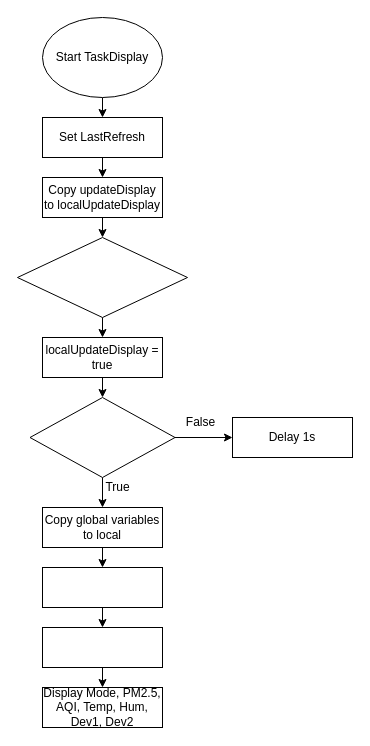
Image size: 370x746. Some labels were removed from this diagram. The centre of each missing label's shape, as x and y in pixels:
!isAPMode && localUpdateDisplay: the point at 102,437
Clear display & Set text size, color, cursor: the point at 102,647
millis() - lastRefresh > 60000: the point at 102,277
updateDisplay = false: the point at 102,587
